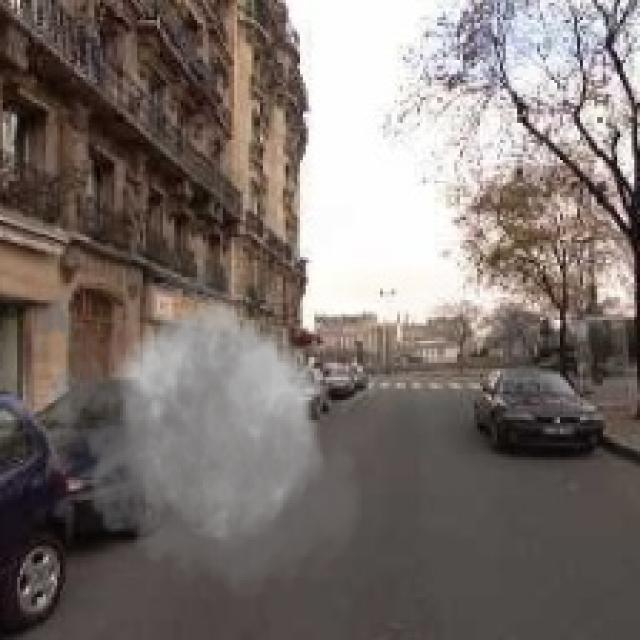Smoke: (22, 232, 374, 612)
